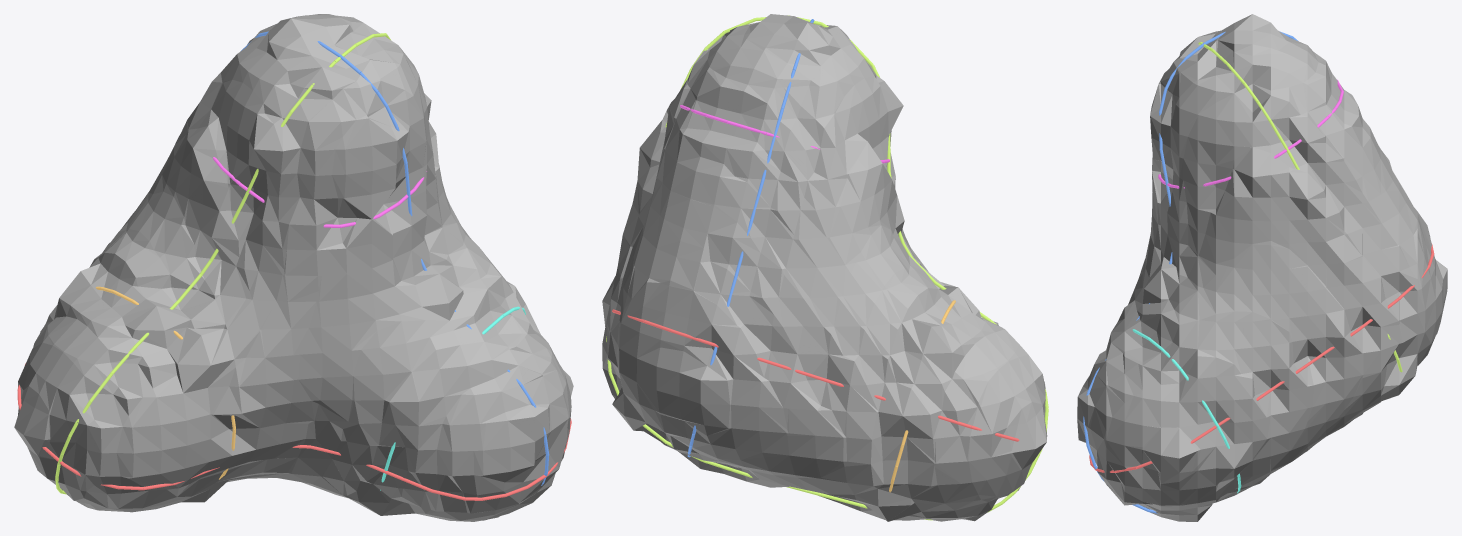
File: flowrep_trebol.gltf
3 renders of one model, left to right at view 1: azimuth 30°, elevation 25°; view 2: azimuth 150°, elevation 25°; view 3: azimuth 270°, elevation 25°, orthographic. The views are drawn at different scales.
Size of the model in its own units: 0.6707 by 0.6513 by 0.4912.
